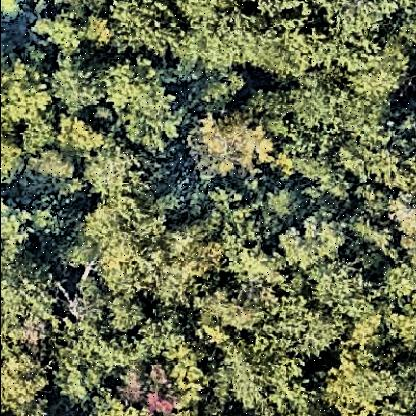tree-top: (89, 194, 172, 297), (105, 52, 183, 158), (315, 347, 416, 414), (225, 334, 305, 410), (191, 109, 275, 179), (3, 252, 67, 343), (51, 321, 117, 402), (187, 1, 259, 71), (297, 71, 367, 135), (115, 1, 187, 61), (346, 33, 407, 103), (281, 213, 349, 273), (278, 295, 343, 357), (2, 59, 54, 134), (52, 48, 109, 114), (167, 217, 228, 278), (23, 12, 111, 54), (335, 137, 403, 190), (316, 1, 403, 39), (316, 261, 370, 322), (5, 348, 55, 412), (346, 208, 396, 270), (122, 362, 179, 414), (29, 193, 81, 250), (135, 304, 186, 362), (198, 286, 266, 328), (88, 144, 137, 202), (192, 70, 252, 112), (24, 147, 79, 189), (231, 251, 277, 294), (1, 193, 27, 263), (263, 184, 303, 226), (109, 291, 147, 335), (1, 135, 27, 187), (385, 259, 416, 298)
